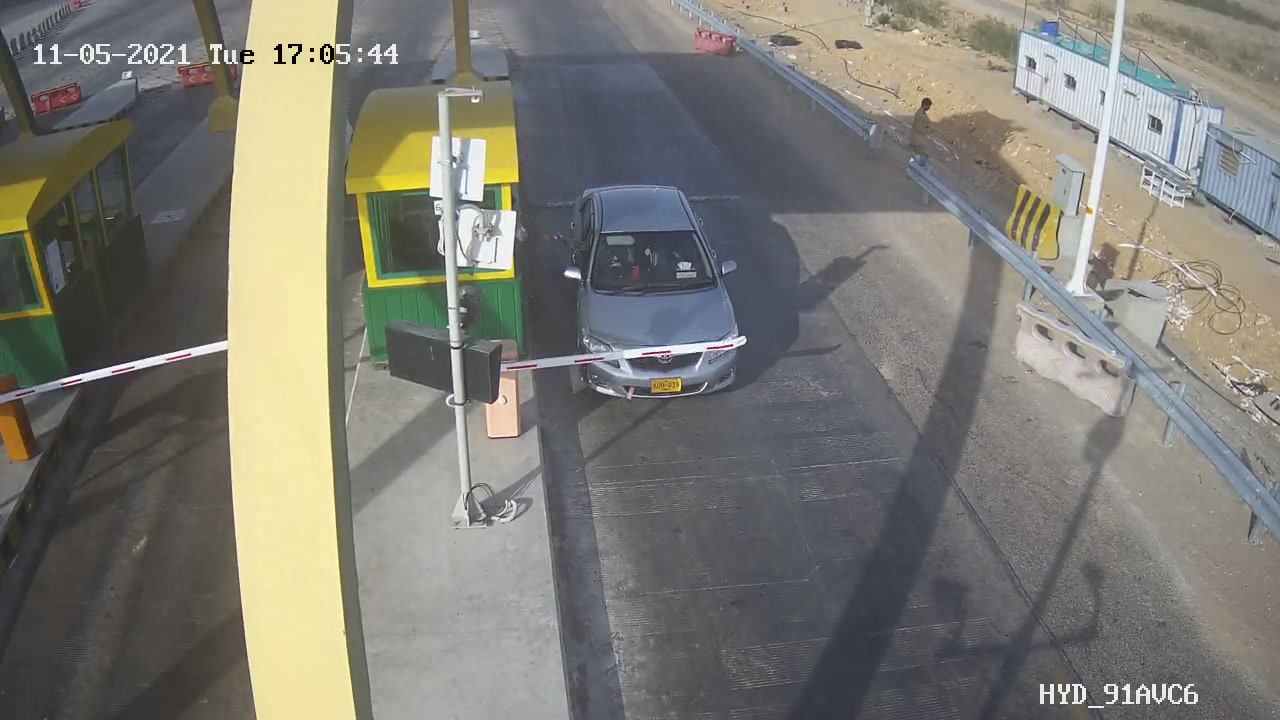F1: (547, 166, 763, 412)
